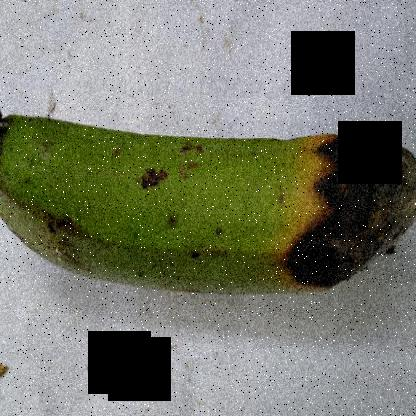rotten: (268, 108, 416, 316), (0, 105, 24, 204)
